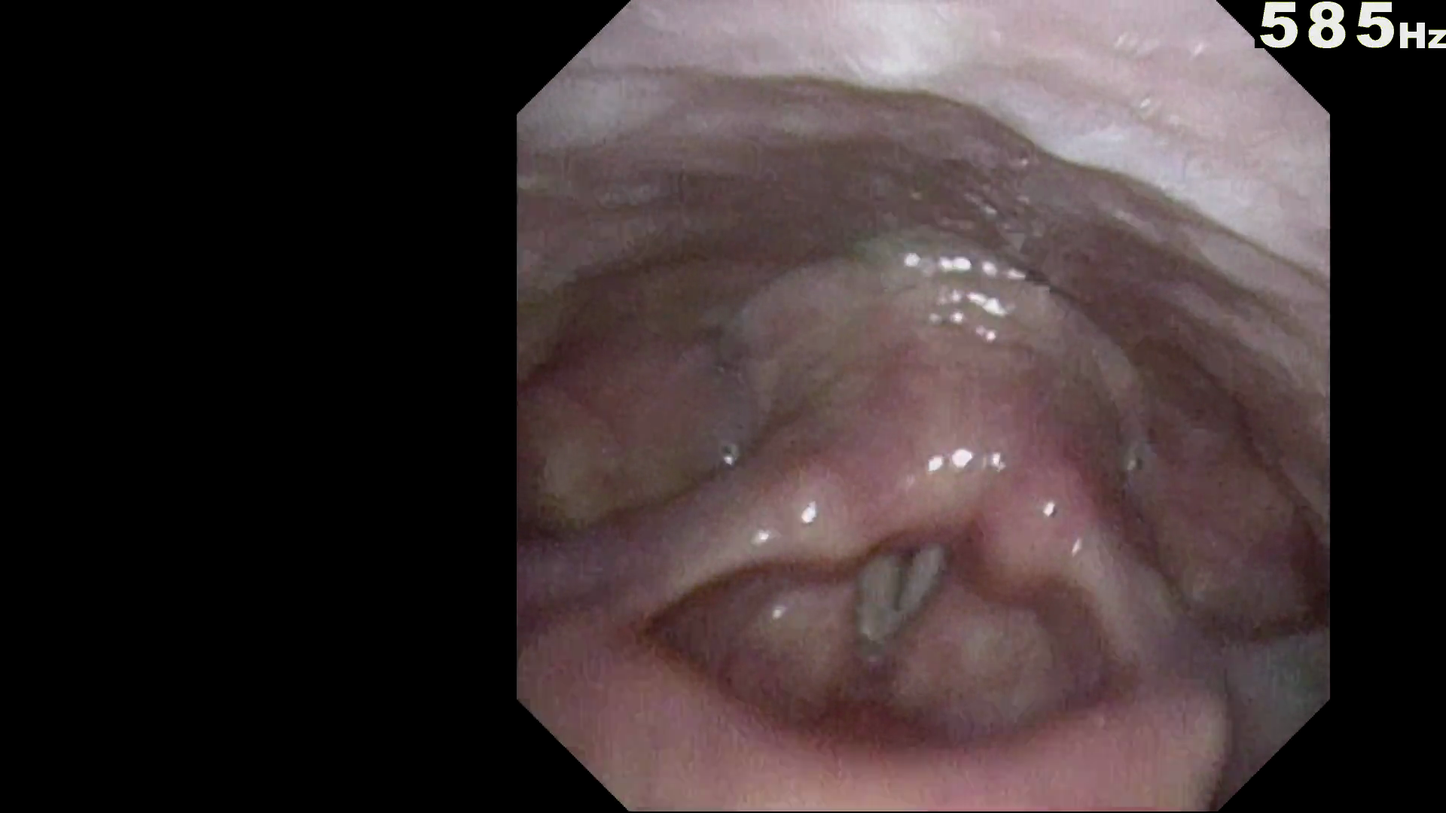epiglottis: (610, 619, 1233, 789)
trachea: (848, 498, 965, 631)
